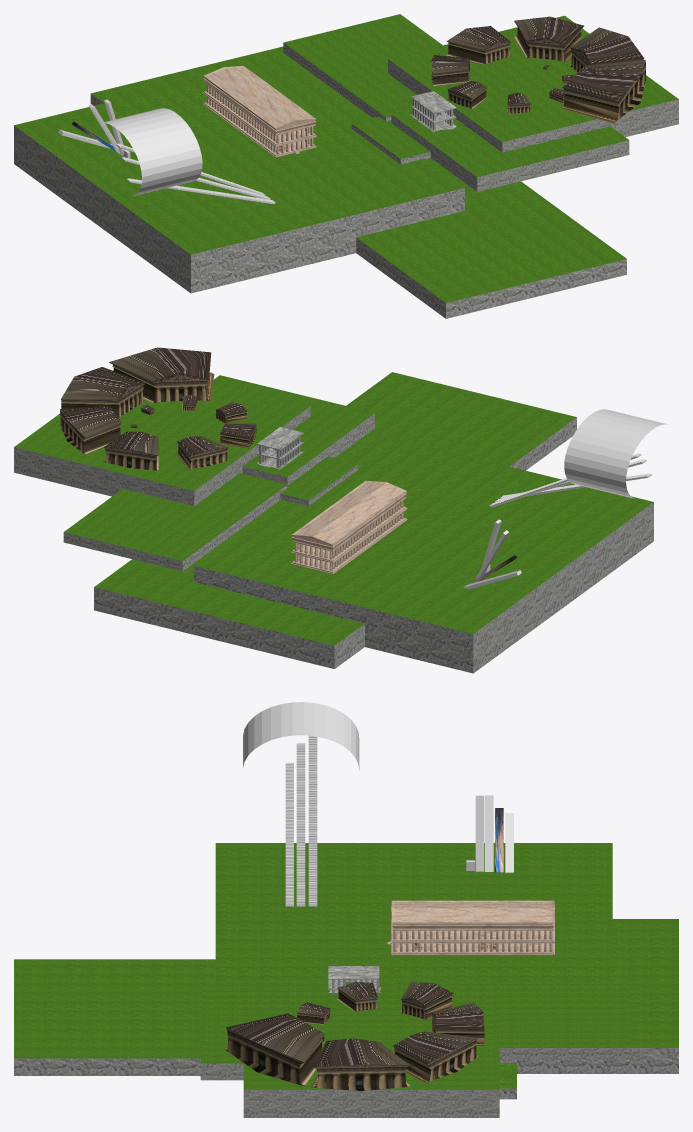
The model's file is level2.glb.
The picture shows the model from 3 angles, top to bottom: view 1: azimuth 30°, elevation 25°; view 2: azimuth 150°, elevation 25°; view 3: azimuth 270°, elevation 25°; orthographic projection. The views are drawn at different scales.
Visible parts, largest first — view 1: Cube.004, Cube.007, Plane.001, Cylinder.004, Cube.002, Cube.016, Cube, Cube.053, Cube.034, Cylinder.003, Cylinder.001; view 2: Cube.004, Cube.007, Plane.001, Cylinder.004, Cube.002, Cube.016, Cube, Cube.053, Cylinder.003; view 3: Cube.004, Cube.007, Plane.001, Cube.002, Cylinder.004, Cube.032, Cube.016, Cube.033, Cube.034, Cube, Cylinder.003, Cube.028 (+3 smaller).
Boxes of the visible parts, x1=… form: Cube.004: x1=14, y1=46, x2=626, y2=318; Cube.007: x1=283, y1=14, x2=678, y2=191; Plane.001: x1=431, y1=16, x2=645, y2=123; Cylinder.004: x1=101, y1=108, x2=202, y2=195; Cube.002: x1=203, y1=66, x2=316, y2=135; Cube.016: x1=202, y1=91, x2=316, y2=146; Cube: x1=203, y1=102, x2=316, y2=157; Cube.053: x1=410, y1=91, x2=456, y2=114; Cube.034: x1=126, y1=178, x2=275, y2=204; Cylinder.003: x1=209, y1=87, x2=310, y2=141; Cylinder.001: x1=209, y1=99, x2=310, y2=152; Cube.004: x1=94, y1=372, x2=653, y2=673; Cube.007: x1=14, y1=375, x2=374, y2=571; Plane.001: x1=60, y1=347, x2=256, y2=470; Cylinder.004: x1=564, y1=409, x2=667, y2=498; Cube.002: x1=291, y1=481, x2=406, y2=551; Cube.016: x1=291, y1=506, x2=407, y2=563; Cube: x1=291, y1=518, x2=407, y2=573; Cube.053: x1=257, y1=427, x2=303, y2=450; Cylinder.003: x1=297, y1=503, x2=400, y2=557; Cube.004: x1=14, y1=843, x2=678, y2=1099; Cube.007: x1=200, y1=973, x2=629, y2=1117; Plane.001: x1=225, y1=981, x2=484, y2=1090; Cube.002: x1=391, y1=900, x2=554, y2=930; Cylinder.004: x1=243, y1=702, x2=359, y2=770; Cube.032: x1=308, y1=735, x2=317, y2=906; Cube.016: x1=391, y1=919, x2=554, y2=943; Cube.033: x1=296, y1=743, x2=305, y2=906; Cube.034: x1=285, y1=762, x2=293, y2=906; Cube: x1=387, y1=941, x2=554, y2=954; Cylinder.003: x1=400, y1=930, x2=547, y2=939; Cube.028: x1=475, y1=795, x2=484, y2=871.
Size of the model in its own units: 375 by 97.28 by 357.
8 materials, 8 textured.
